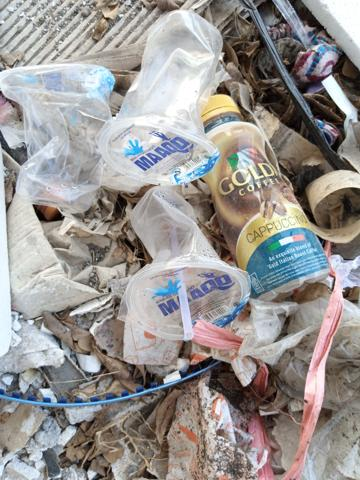botol_kaca: (190, 93, 338, 308)
